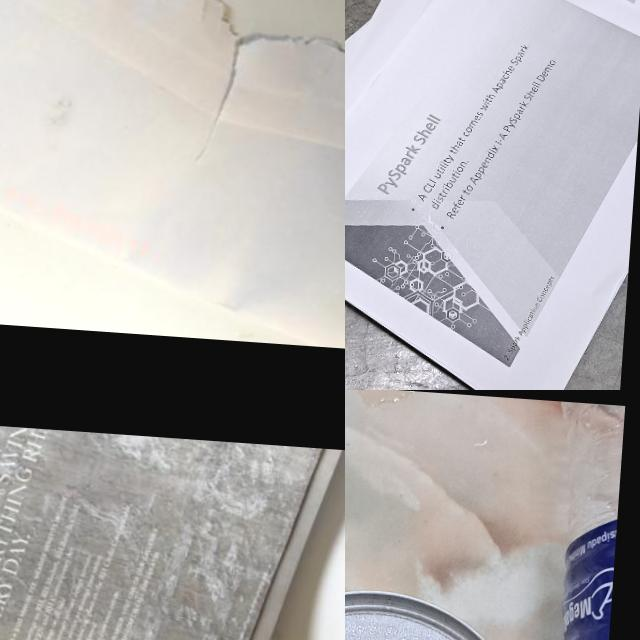garrafa plástica: (530, 401, 624, 640)
papel: (0, 0, 345, 362), (345, 0, 640, 390), (0, 410, 345, 640)
